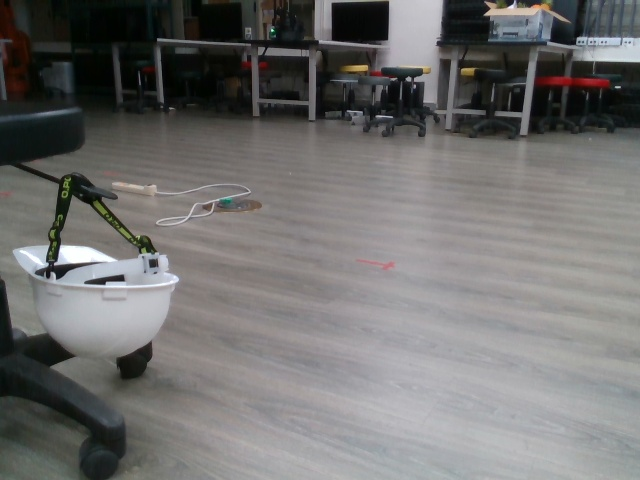helmet: (13, 237, 182, 360)
